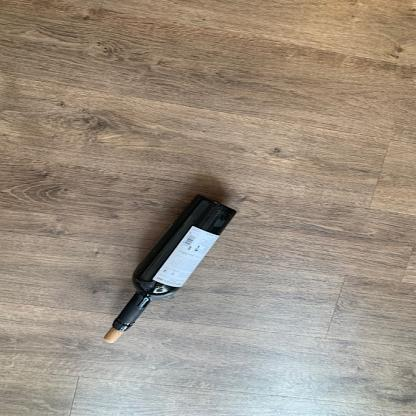trash: (110, 193, 241, 331)
